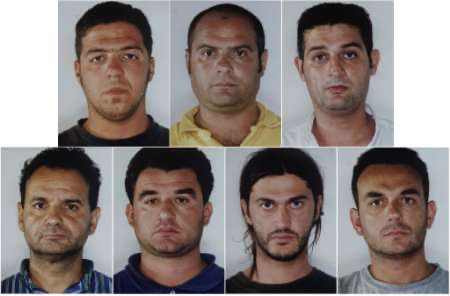Face: (77, 32, 150, 127), (123, 173, 207, 251), (15, 176, 90, 254), (300, 35, 373, 111), (191, 34, 260, 113), (359, 175, 429, 251), (244, 186, 315, 259)
